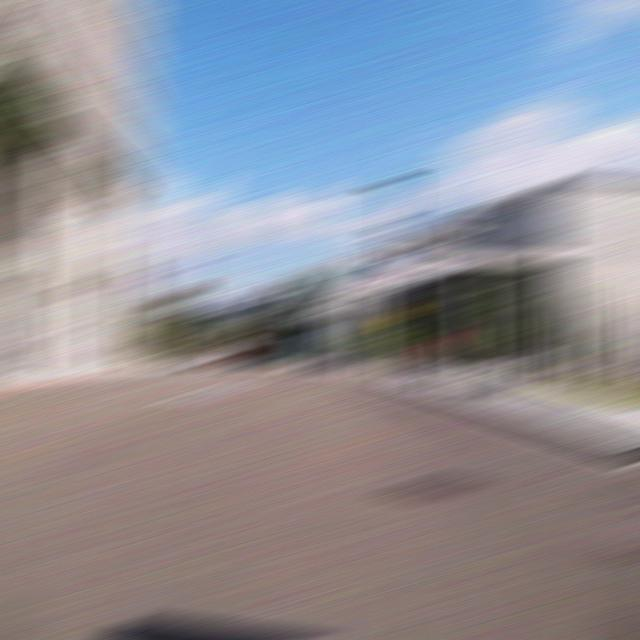pedestrianCrossing: (382, 306, 418, 325)
